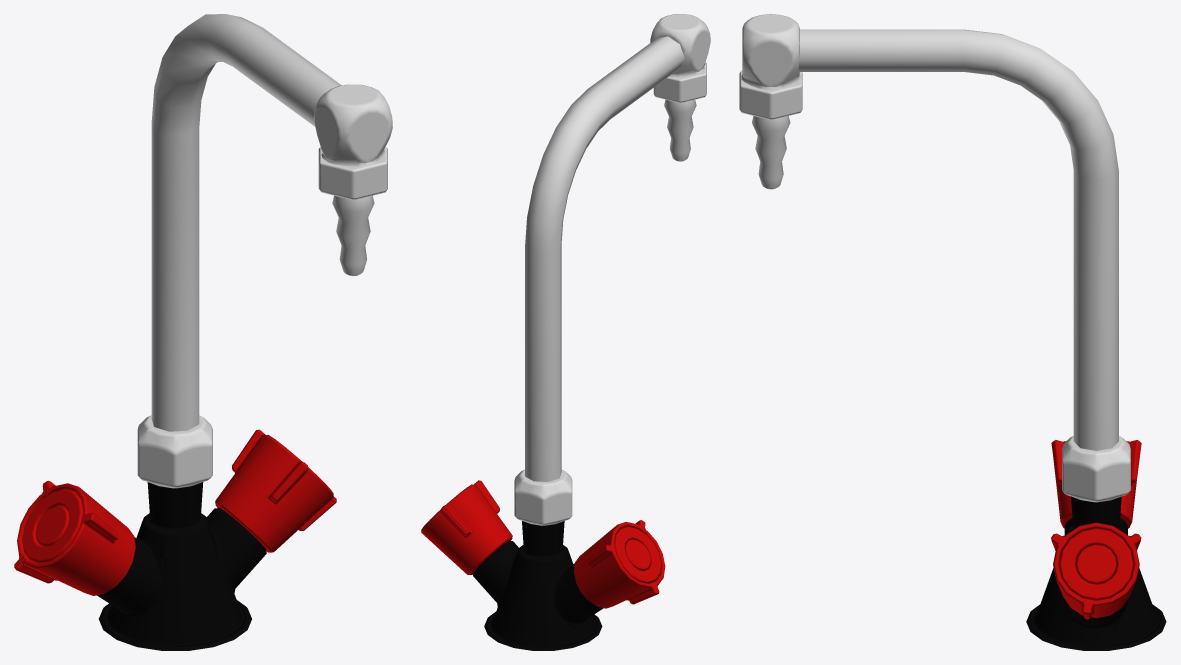
File: SinkBenchPart03.fbx
The picture shows the model from 3 angles, left to right: view 1: azimuth 30°, elevation 25°; view 2: azimuth 150°, elevation 25°; view 3: azimuth 270°, elevation 25°; orthographic projection. The views are drawn at different scales.
Parts seen in each view (by area): view 1: SinkBenchPart03; view 2: SinkBenchPart03; view 3: SinkBenchPart03.
Boxes of the visible parts, left/top/right/bottom form: SinkBenchPart03: left=14, top=14, right=392, bottom=650; SinkBenchPart03: left=421, top=14, right=710, bottom=650; SinkBenchPart03: left=739, top=14, right=1166, bottom=650.
Bounding box in the file's own units: 12.34 × 16.1 × 24.88.
